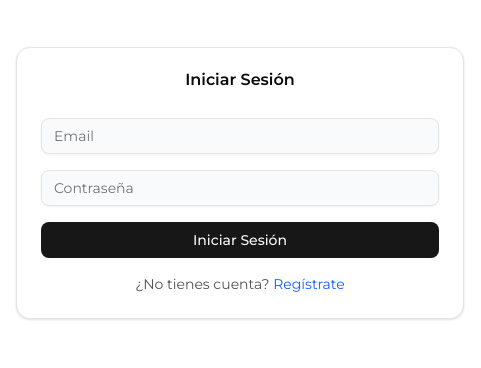
LoginForm › should show error message when login fails
This screenshot has width=481, height=368.
Type "test@example.com" into the field with placeholder "Email". click: (240, 136)
box: [41,118,439,154]
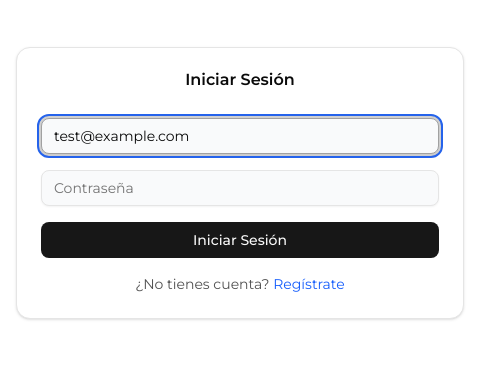
Type "wrongpassword" into the password field with placeholder "Contraseña". click: (240, 188)
box: [41,170,439,206]
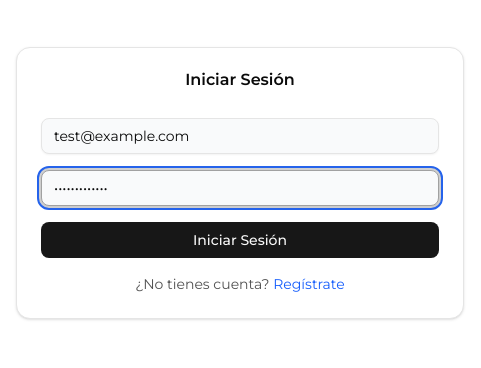
Click the button "Iniciar Sesión". click: click(240, 240)
box: [41,222,439,258]
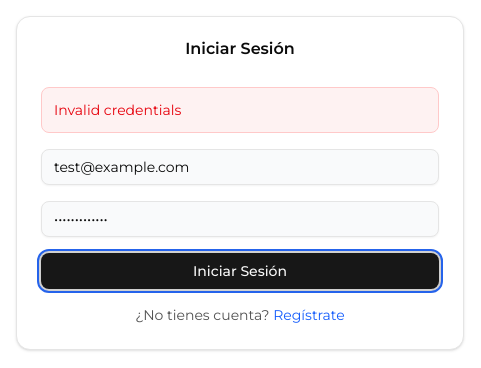
Expected: the text "Invalid credentials" is shown, [41,87,439,133]
